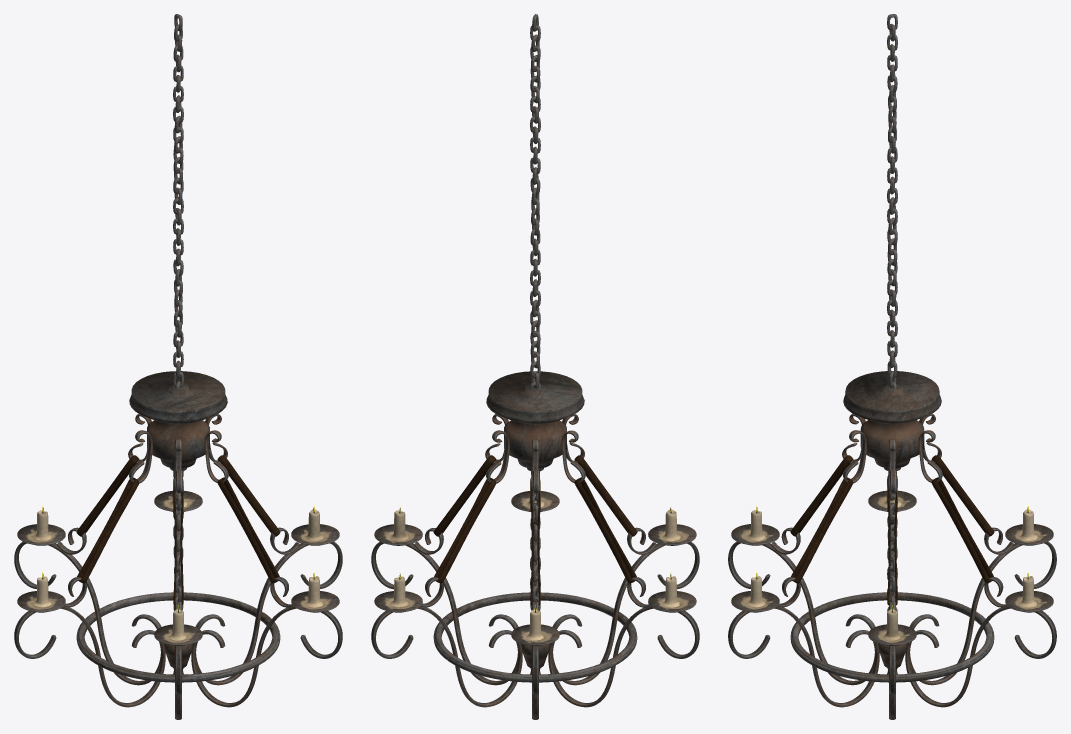
File: antique_chandelier.glb
3 views of the same model, side by side, from view 1: azimuth 30°, elevation 25°; view 2: azimuth 150°, elevation 25°; view 3: azimuth 270°, elevation 25° (orthographic).
Visible parts, largest first — view 1: Cylinder.007, Plane, Cube.004, Cylinder.005; view 2: Cylinder.007, Plane, Cube.004, Cylinder.005; view 3: Cylinder.007, Plane, Cube.004, Cylinder.005.
Boxes of the visible parts, <box> form: Cylinder.007: <box>14,371,342,719</box>; Plane: <box>76,455,280,605</box>; Cube.004: <box>173,14,183,610</box>; Cylinder.005: <box>33,478,323,640</box>; Cylinder.007: <box>371,371,699,719</box>; Plane: <box>433,455,637,605</box>; Cube.004: <box>530,14,540,610</box>; Cylinder.005: <box>390,477,680,640</box>; Cylinder.007: <box>728,371,1056,719</box>; Plane: <box>790,455,994,605</box>; Cube.004: <box>887,14,897,611</box>; Cylinder.005: <box>747,484,1037,640</box>.
Size of the model in its own units: 1074 by 2135 by 935.
4 materials, 3 textured.
